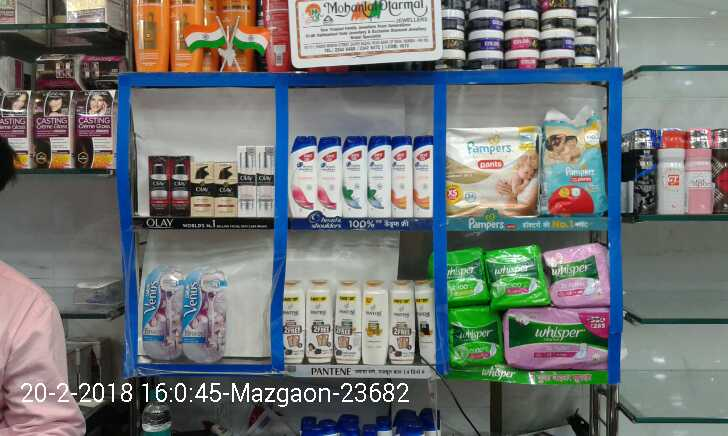venus: (141, 267, 184, 363), (184, 267, 226, 358)
